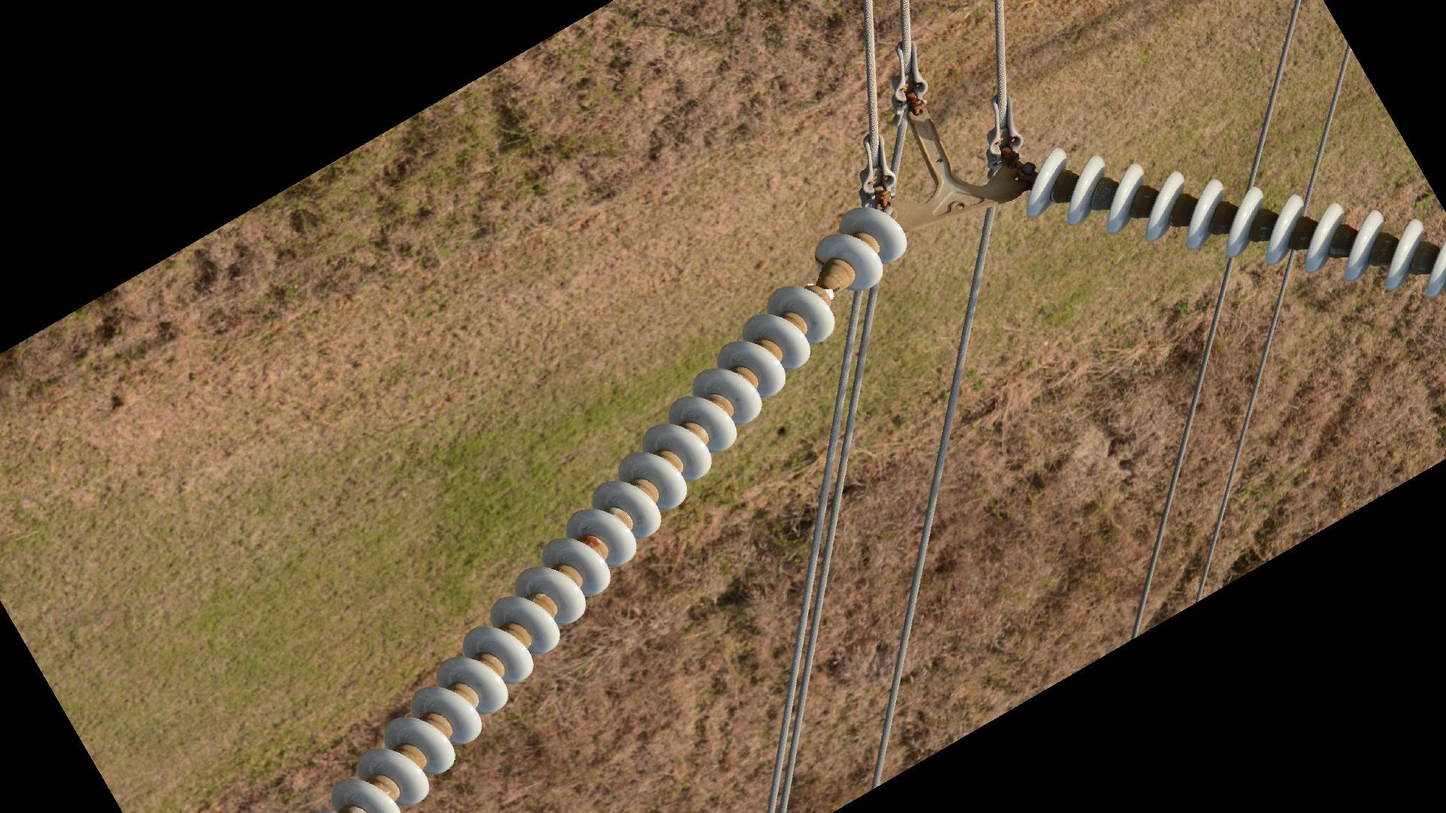insulator: (331, 282, 839, 813), (1020, 145, 1446, 310), (807, 203, 911, 294)
